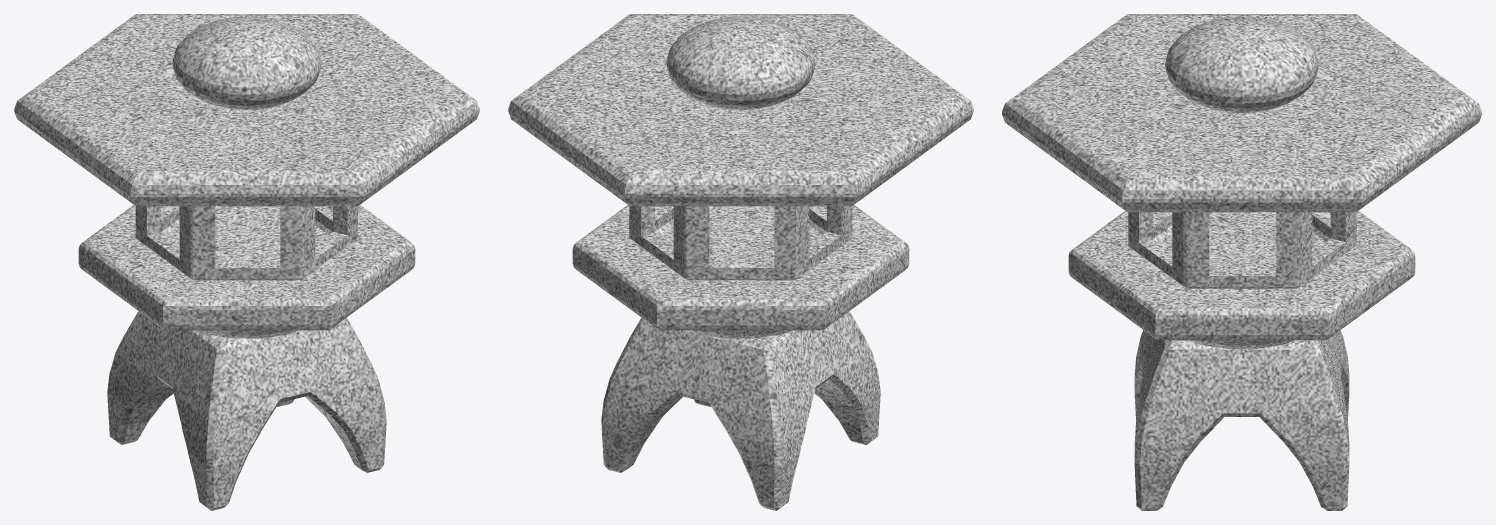
The model's file is t_yukimi.glb.
3 views of the same model, side by side, from view 1: azimuth 30°, elevation 25°; view 2: azimuth 150°, elevation 25°; view 3: azimuth 270°, elevation 25° (orthographic). The views are drawn at different scales.
Visible parts, largest first — view 1: t_yukimi; view 2: t_yukimi; view 3: t_yukimi.
Part boxes in pixels (bbox=[...]): t_yukimi: bbox=[14, 14, 479, 510]; t_yukimi: bbox=[508, 14, 973, 510]; t_yukimi: bbox=[1002, 14, 1481, 510].
Size of the model in its own units: 0.9419 by 1.1 by 1.09.
1 material, 1 textured.
